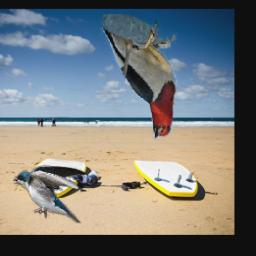Swallow: (13, 165, 85, 224)
Woodpecker: (97, 14, 179, 145)
